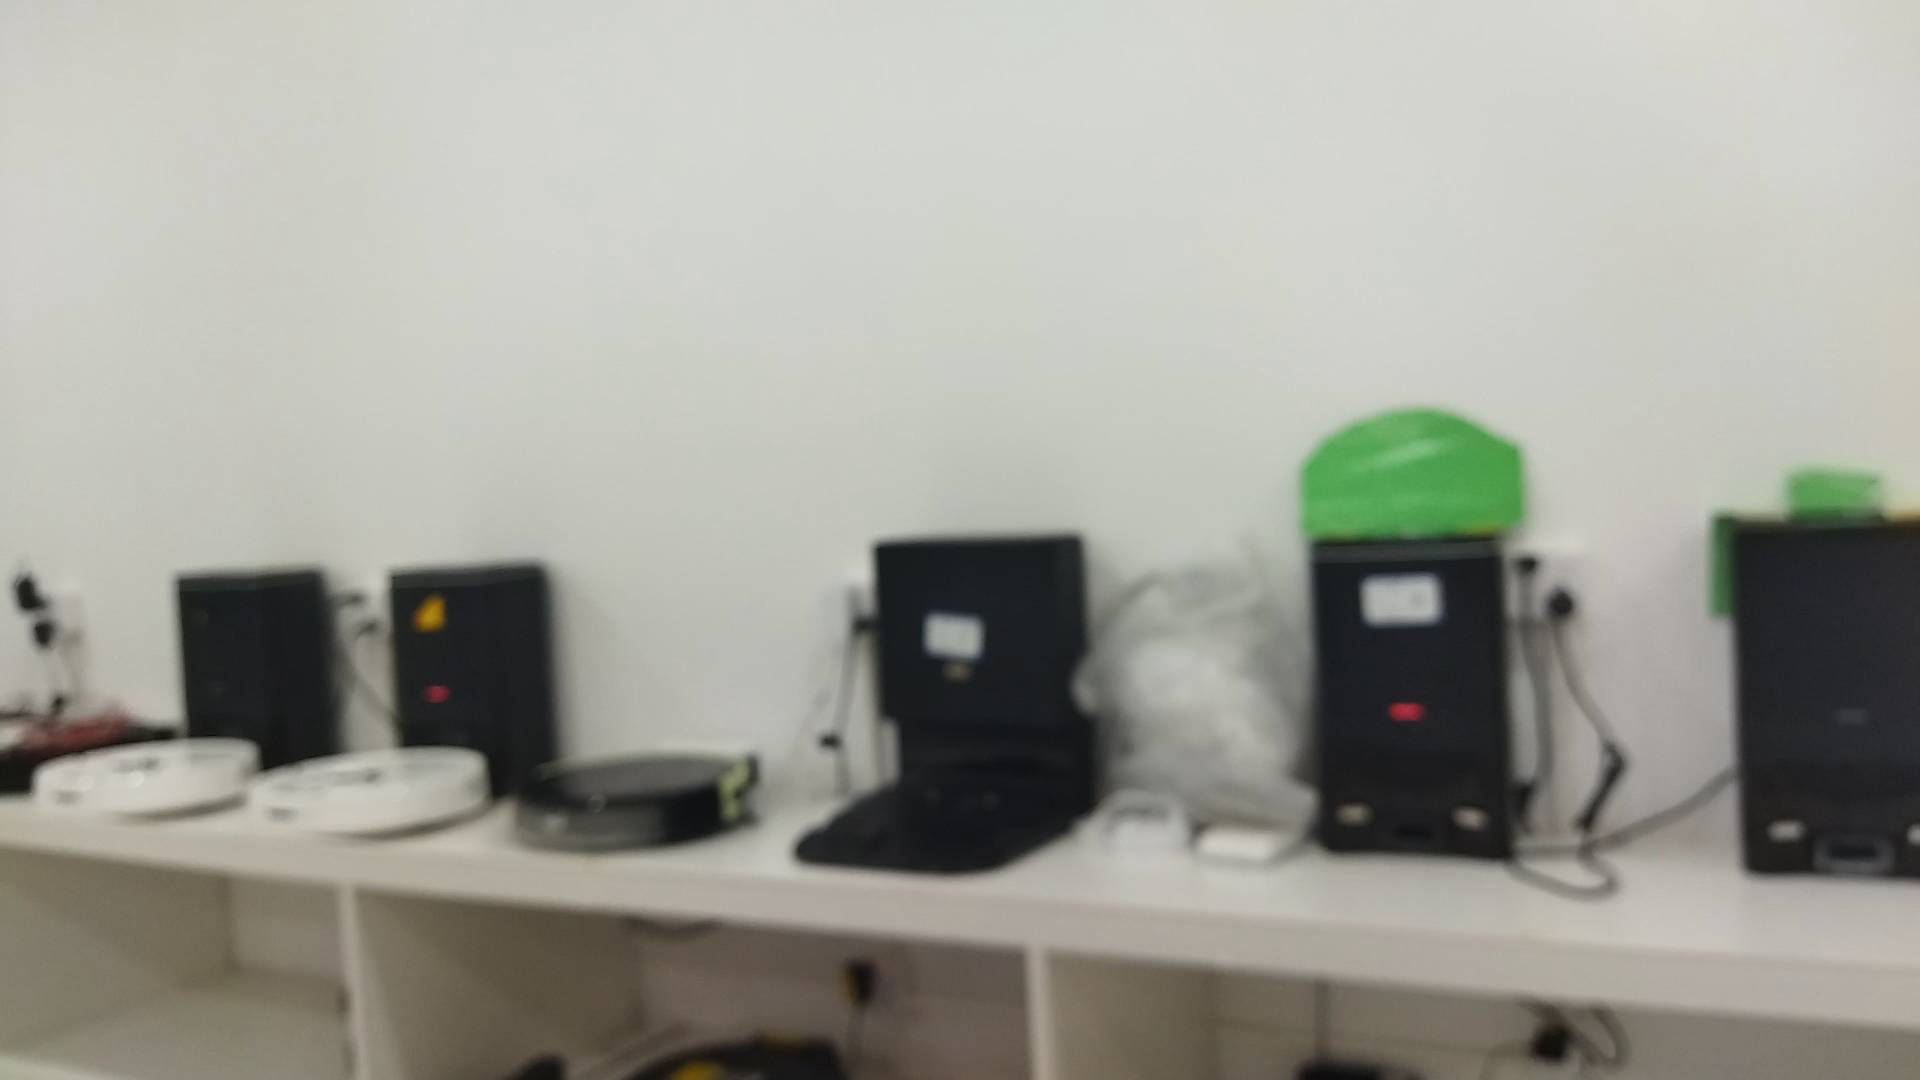dust collecting barrel: (796, 534, 1096, 876), (1735, 520, 1920, 886), (1315, 541, 1518, 864), (386, 564, 554, 802), (175, 564, 339, 770)
